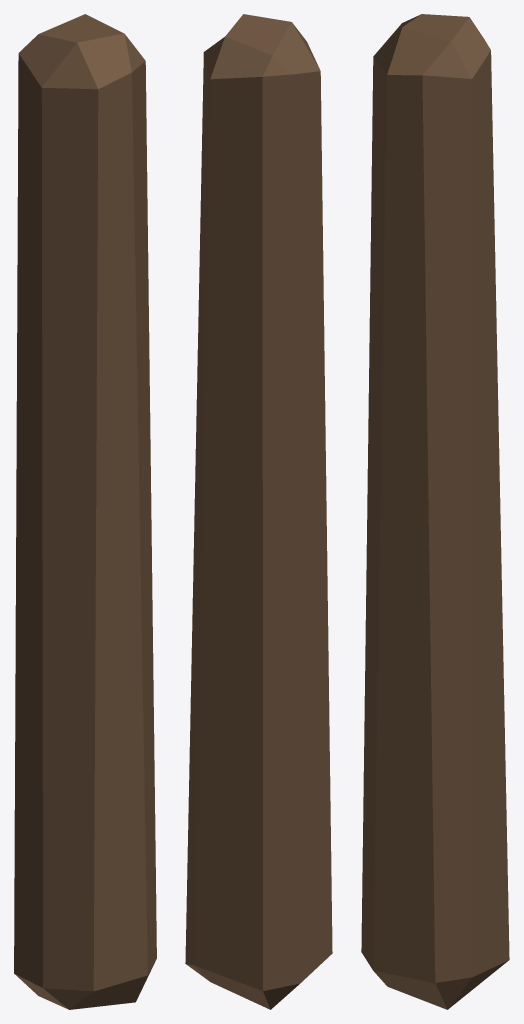
The model's file is PKX_Fence_Post.fbx.
3 views of the same model, side by side, from view 1: azimuth 30°, elevation 25°; view 2: azimuth 150°, elevation 25°; view 3: azimuth 330°, elevation 25° (orthographic).
Visible parts, largest first — view 1: PKX_Fence_Post; view 2: PKX_Fence_Post; view 3: PKX_Fence_Post.
Boxes of the visible parts, x1,y1,x2,y2 form: PKX_Fence_Post: [14, 14, 156, 1009]; PKX_Fence_Post: [185, 14, 332, 1009]; PKX_Fence_Post: [361, 14, 509, 1009].
Size of the model in its own units: 10.53 by 87.02 by 10.83.
